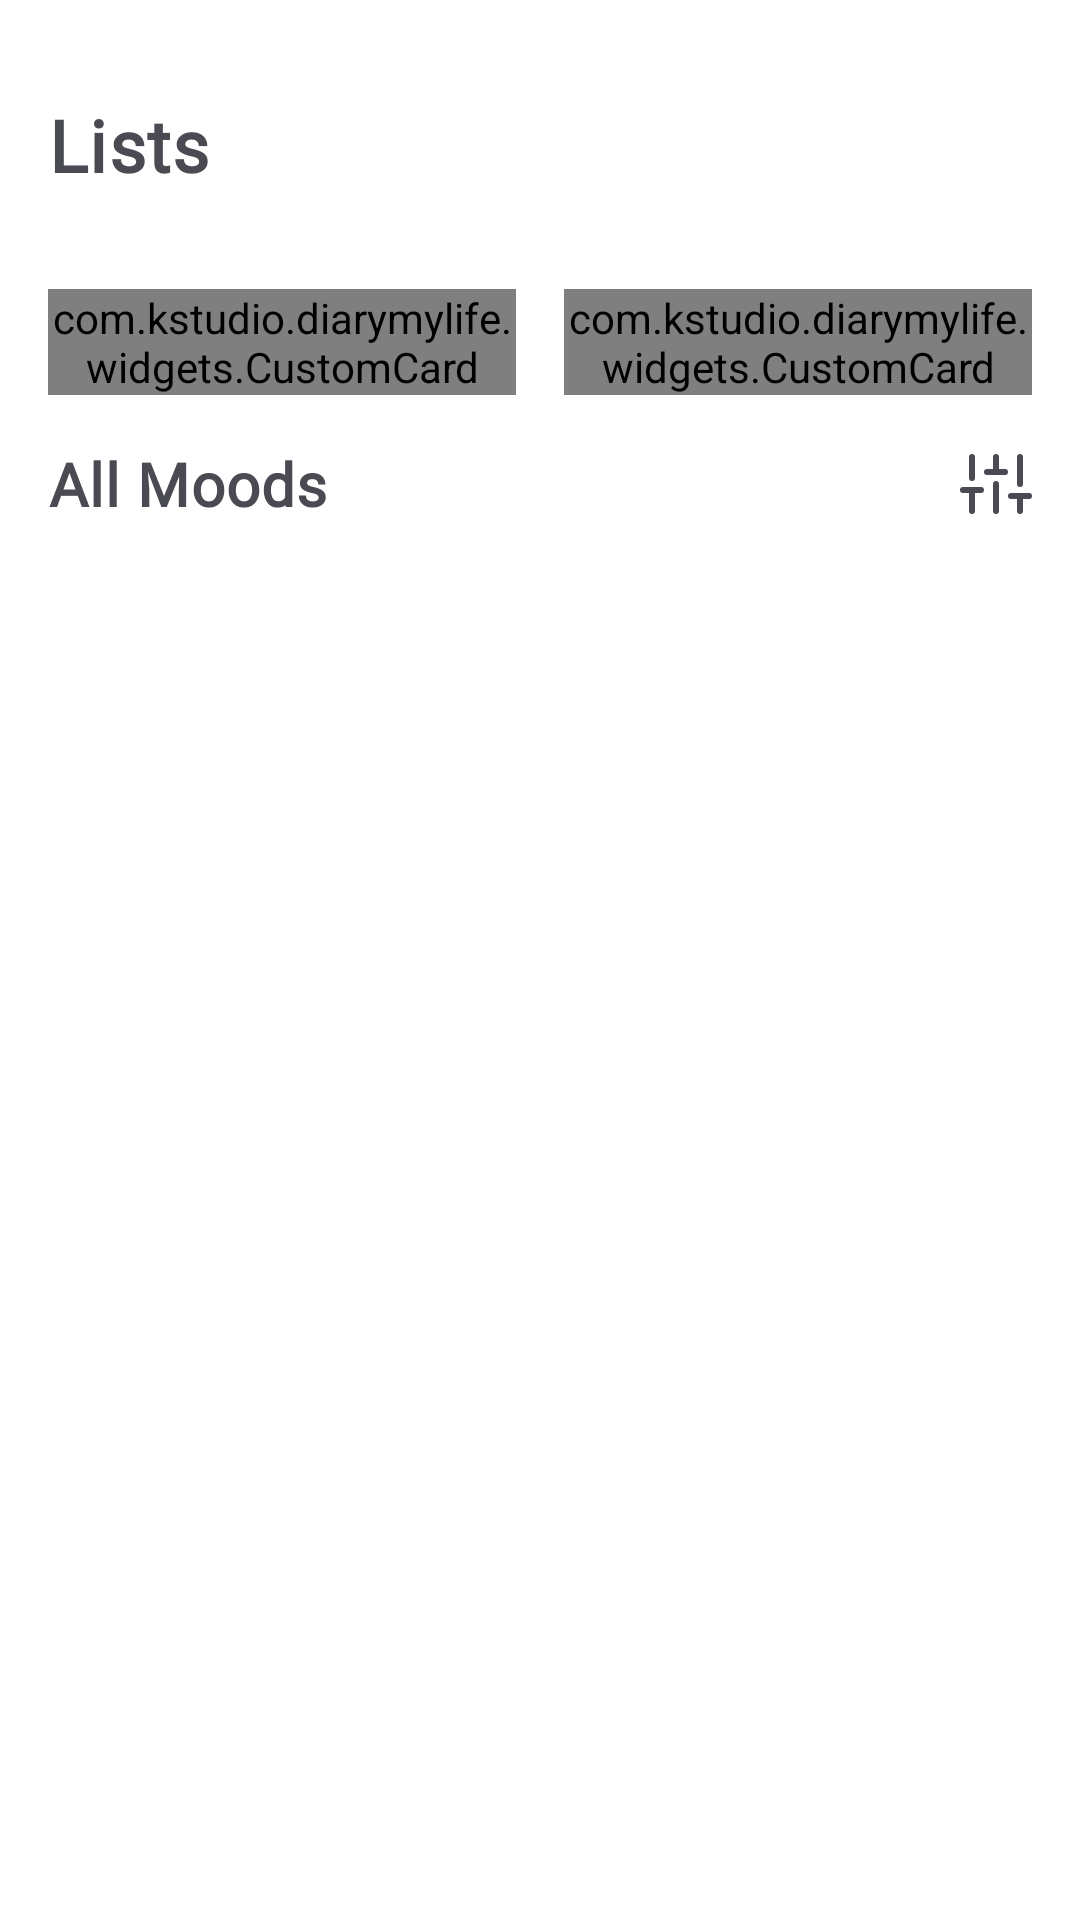

Where to tap for icons on this 1080*1920 app screen, as (x=x, y=y):
sliders: (x=996, y=484)
